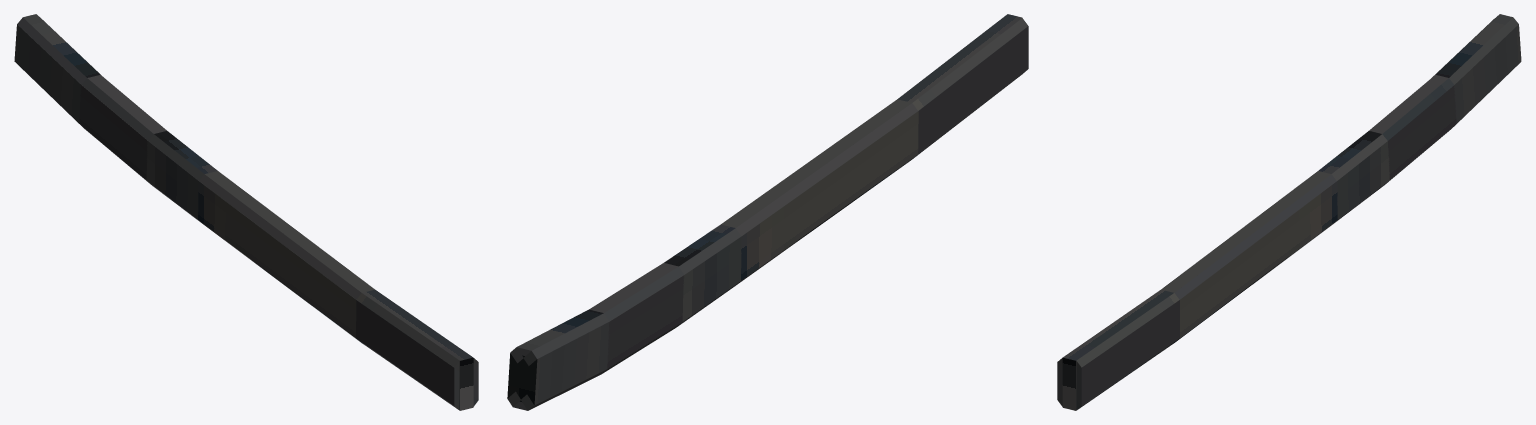
File: odachi_sheath.obj
3 views of the same model, side by side, from view 1: azimuth 30°, elevation 25°; view 2: azimuth 150°, elevation 25°; view 3: azimuth 330°, elevation 25° (orthographic). The views are drawn at different scales.
Visible parts, largest first — view 1: katana_sheath; view 2: katana_sheath; view 3: katana_sheath.
Part boxes in pixels (<box>): katana_sheath: <box>14,14,478,410</box>; katana_sheath: <box>507,14,1028,410</box>; katana_sheath: <box>1057,14,1521,410</box>.
Bounding box in the file's own units: 0.0823 × 0.2527 × 2.59.
